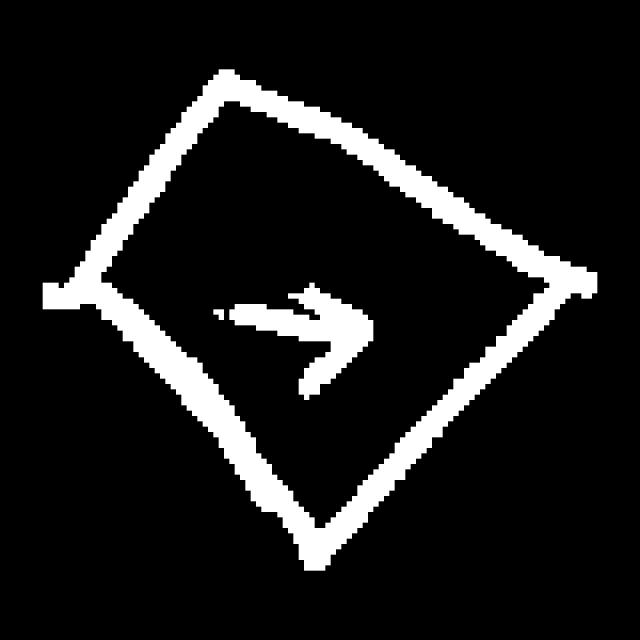dependant_current: (73, 50, 562, 590)
